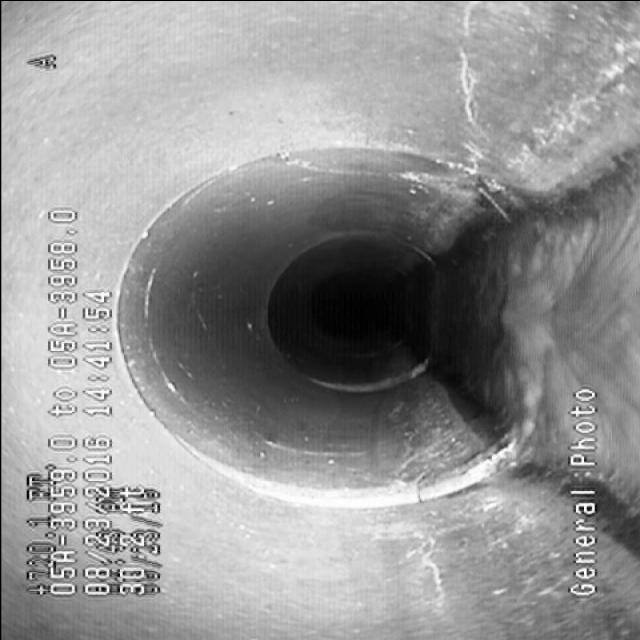Crack: (448, 22, 503, 164), (399, 514, 458, 622)
